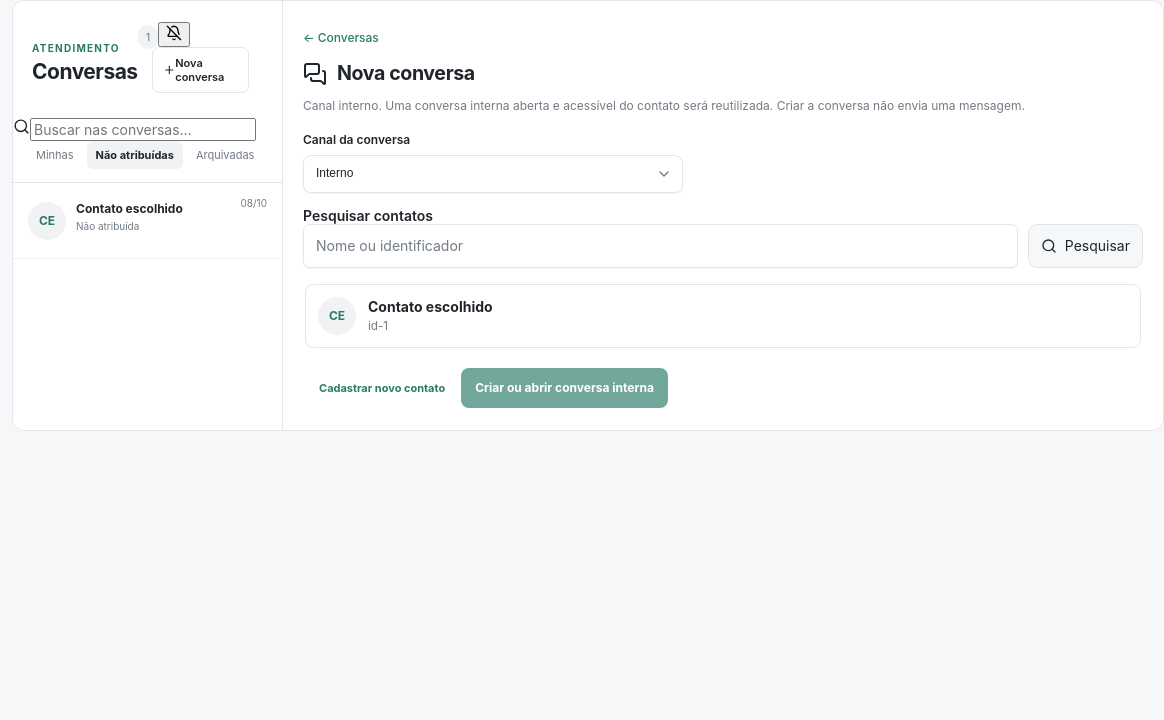
it: M1 manual internal conversation flow › opens WhatsApp by known contact only on explicit action and never sends automatically
Select "WhatsApp" in the dropdown named "Canal da nova conversa" at (493, 174), box 303,155 -> 683,193
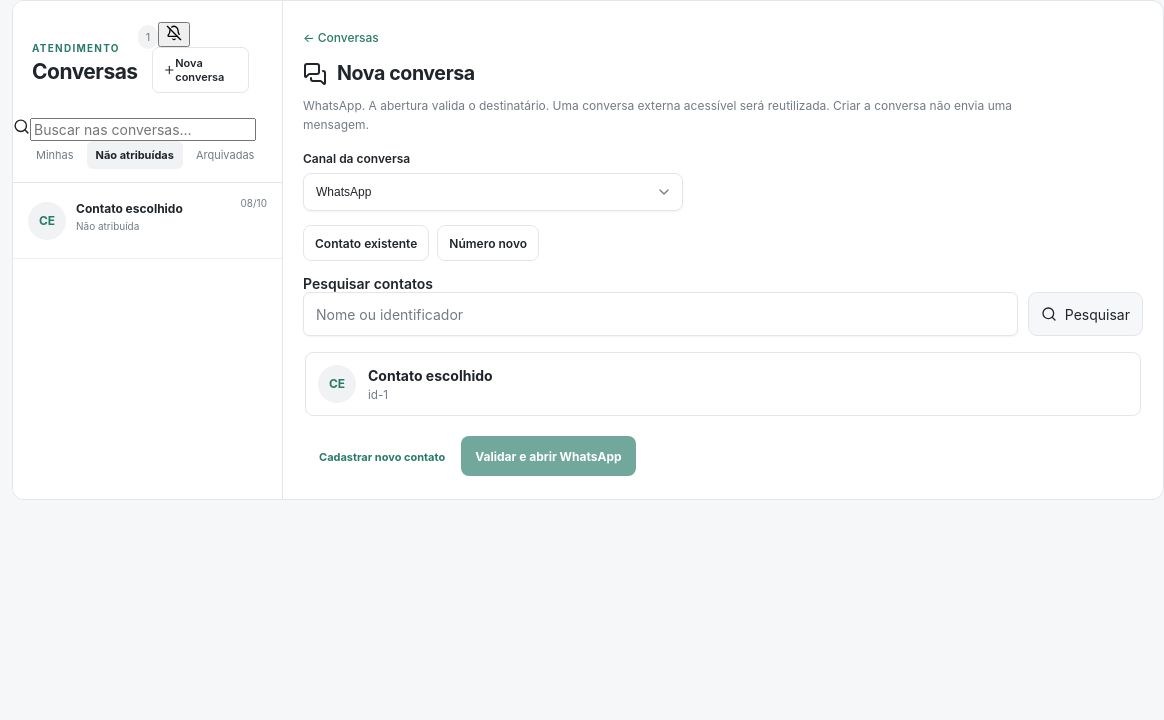
Click the button with aria-label "Selecionar Contato escolhido" at (337, 384), box 305,352 -> 1141,416
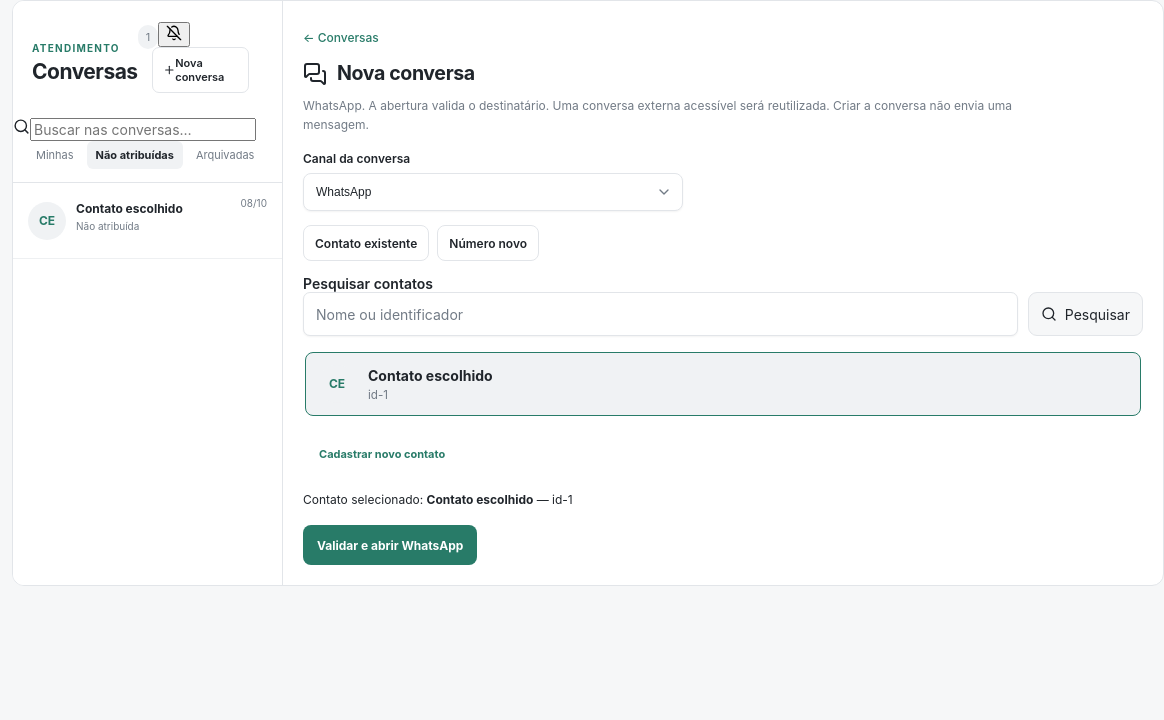
Click the button "Validar e abrir WhatsApp" at (390, 545), box 303,525 -> 477,565
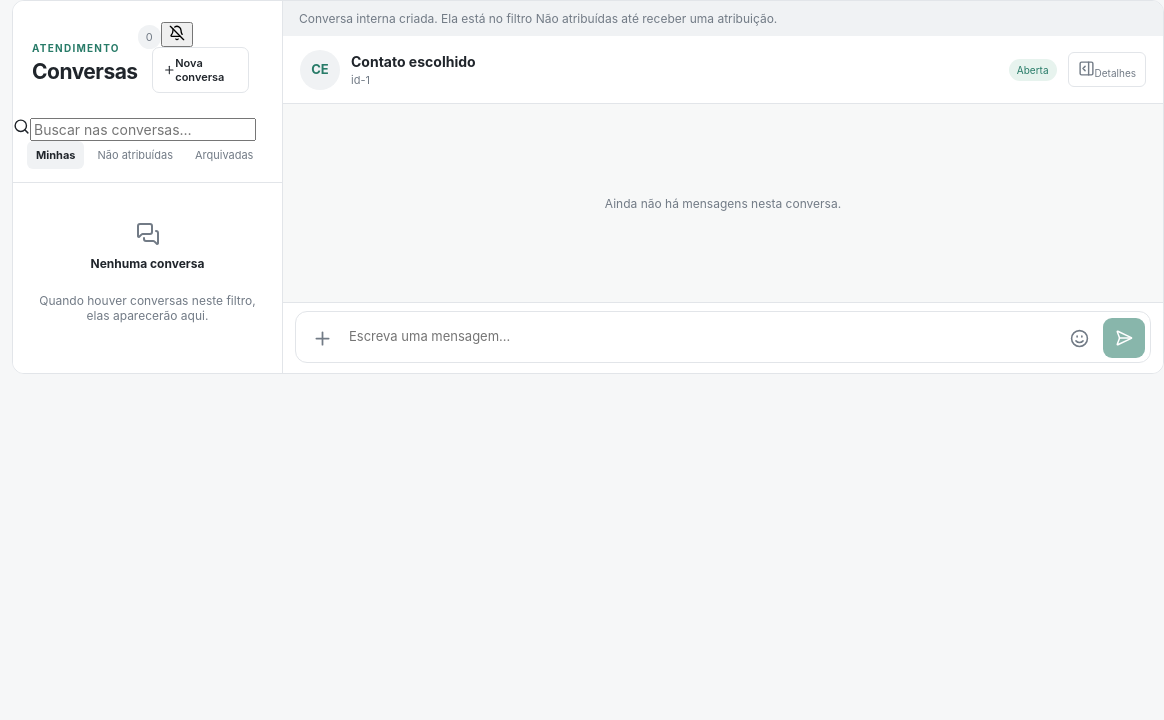
Expected: the heading "Contato escolhido" is shown, 351,52 -> 476,70
